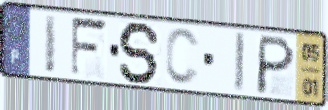C: (163, 26, 202, 89)
F: (69, 15, 111, 80)
I: (43, 12, 59, 76), (233, 30, 247, 95)
P: (253, 33, 297, 98)
S: (116, 20, 163, 86)
